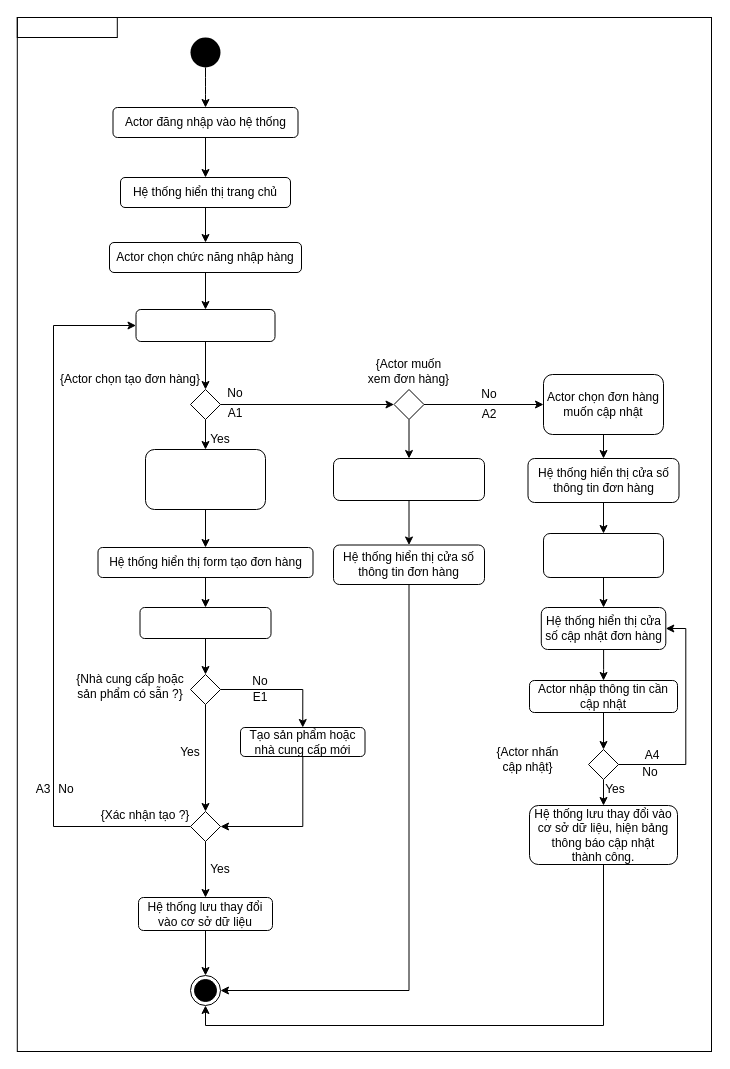
This 730x1069 diagram has some shape labels left out. The box of each missing label's shape, as (x1, y1, x2, y2) in pixels:
Activity Diagram: (16, 16, 117, 38)
Actor chọn nút cập nhật: (542, 532, 664, 578)
Actor chọn đơn hàng từ danh mục: (332, 458, 484, 500)
Actor nhập thông tin đơn hàng và bấm tạo: (139, 606, 271, 638)
Hệ thống hiển thị danh mục đơn hàng: (135, 308, 275, 342)
Hệ thống lấy thông sản phẩm và nhà cung cấp từ CSDL: (144, 448, 266, 510)
